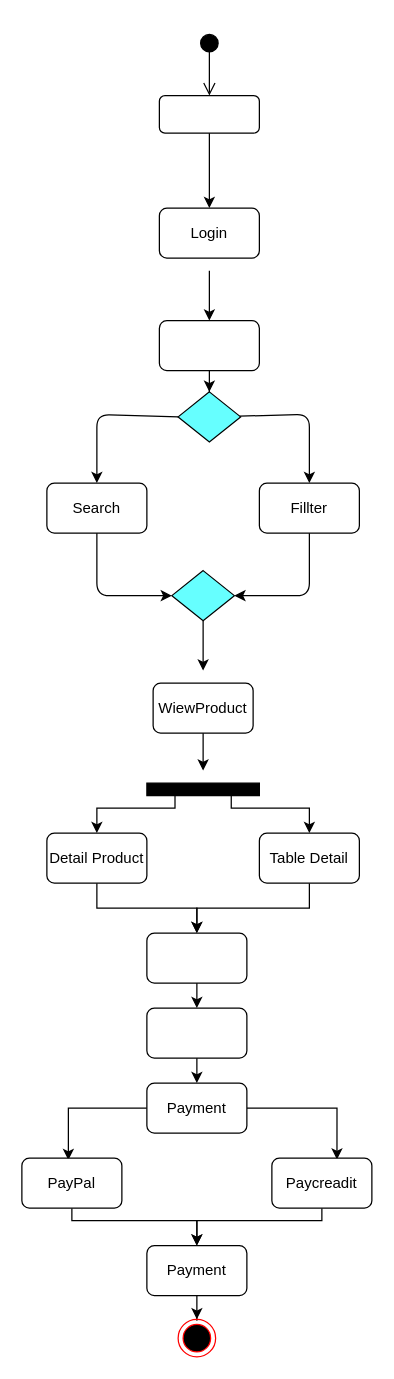
This 394x1379 diagram has some shape labels left out. The shapes that lost their labels are listed below. From the top down, each one's centre as x and y in pixels, then its label:
point 208,113: Customer
point 208,345: HomePape
point 196,957: Card
point 196,1032: CardDetail
